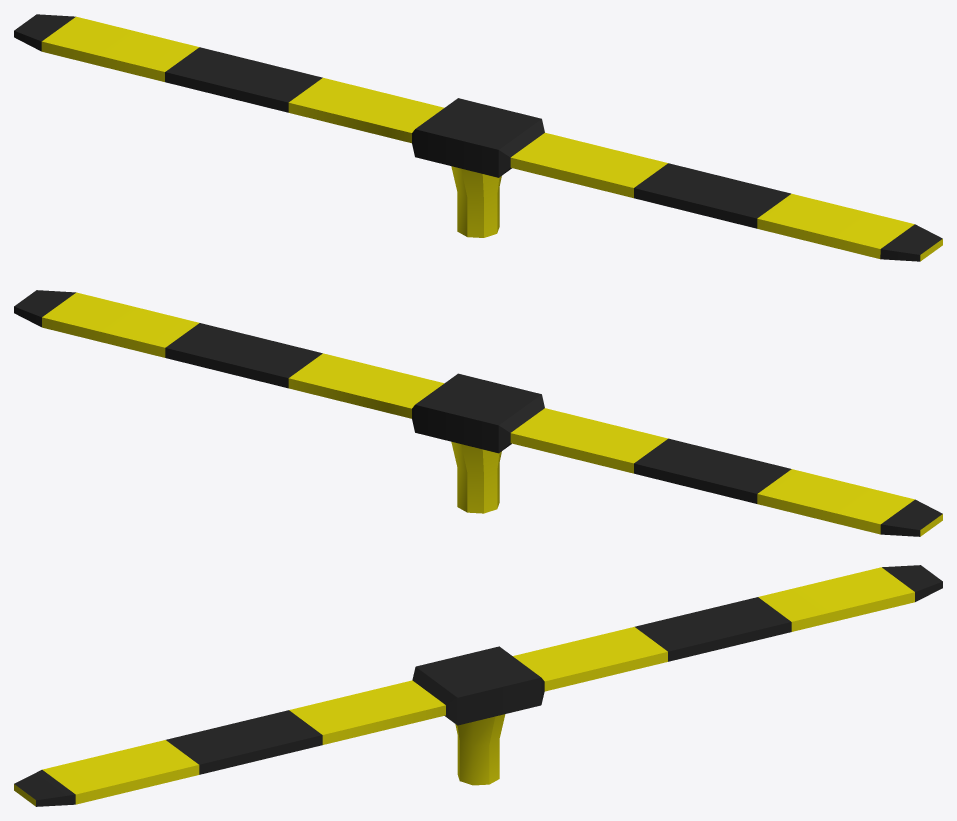
The model's file is drone_costum_Cube.001.fbx.
3 views of the same model, one above another, from view 1: azimuth 30°, elevation 25°; view 2: azimuth 210°, elevation 25°; view 3: azimuth 270°, elevation 25° (orthographic).
Visible parts, largest first — view 1: drone_costum_Cube_001; view 2: drone_costum_Cube_001; view 3: drone_costum_Cube_001.
Part boxes in pixels (bbox=[...]): drone_costum_Cube_001: bbox=[14, 14, 942, 261]; drone_costum_Cube_001: bbox=[14, 290, 942, 536]; drone_costum_Cube_001: bbox=[14, 565, 942, 806].
Size of the model in its own units: 242 by 50.29 by 405.
